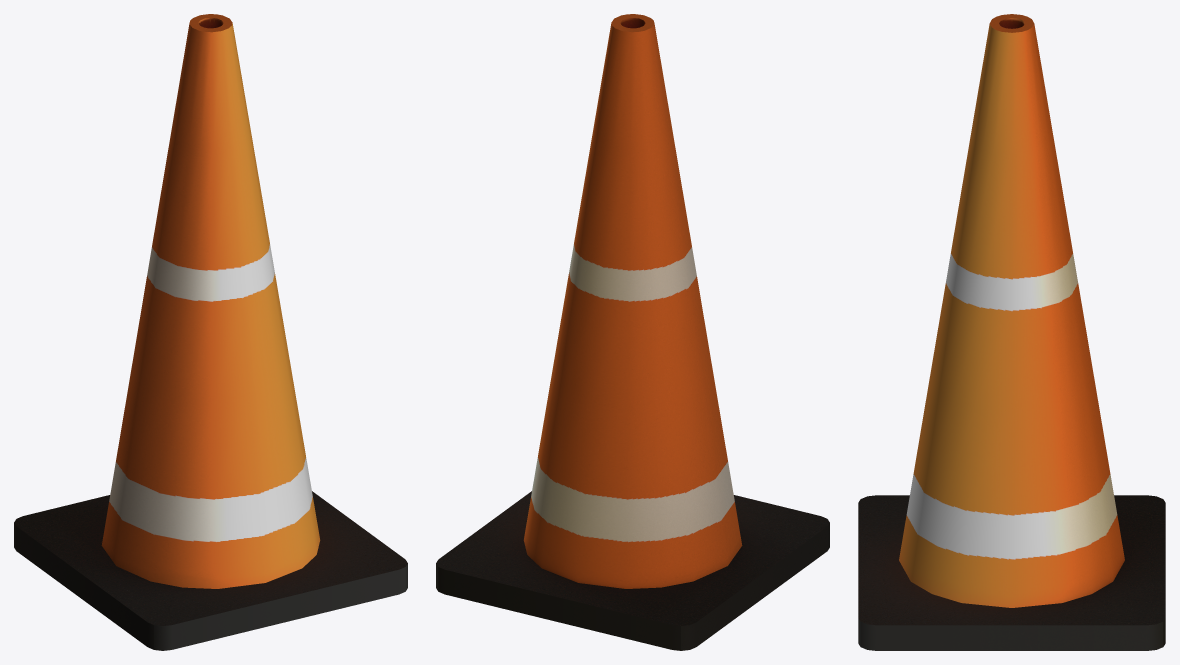
File: kukaS.gltf
3 views of the same model, side by side, from view 1: azimuth 30°, elevation 25°; view 2: azimuth 150°, elevation 25°; view 3: azimuth 270°, elevation 25° (orthographic). The views are drawn at different scales.
Parts seen in each view (by area): view 1: Cube.002; view 2: Cube.002; view 3: Cube.002.
Boxes of the visible parts, bbox=[...] form: Cube.002: bbox=[14, 14, 407, 650]; Cube.002: bbox=[436, 14, 829, 650]; Cube.002: bbox=[858, 14, 1165, 650].
Bounding box in the file's own units: 1.98 × 4 × 1.98.
1 material, 1 textured.
